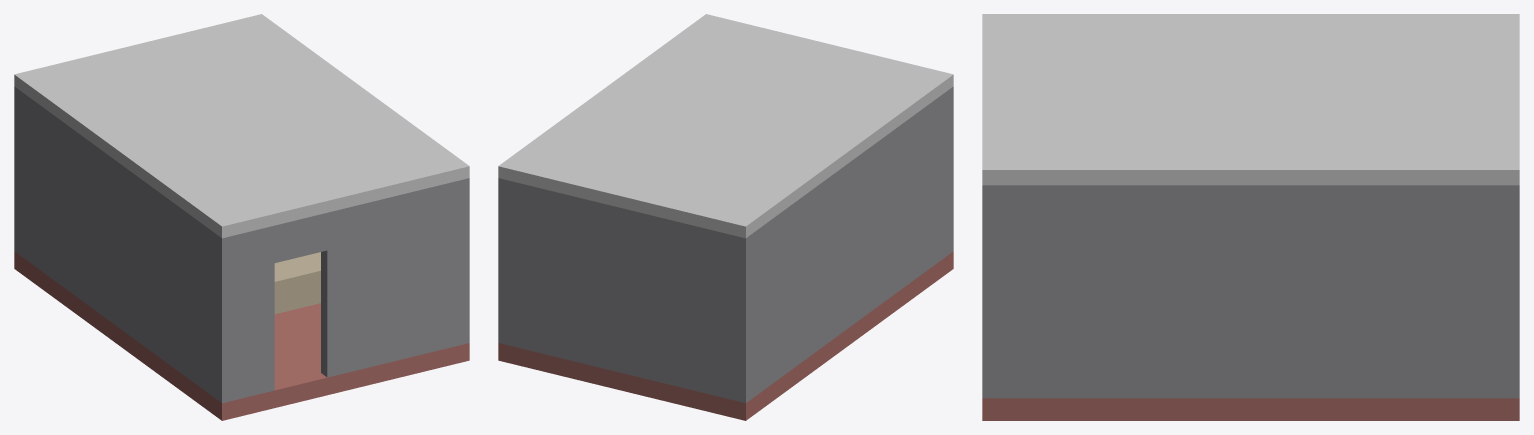
Rendered from motel_a.glb.
The picture shows the model from 3 angles, left to right: view 1: azimuth 30°, elevation 25°; view 2: azimuth 150°, elevation 25°; view 3: azimuth 270°, elevation 25°; orthographic projection. The views are drawn at different scales.
Visible parts, largest first — view 1: Room_Ceiling, Room_Wall_W_1, Room_Wall_S_3, Room_Floor, Room_Wall_S_1, Bed, Room_Wall_S_2, Room_Wall_N_1; view 2: Room_Ceiling, Room_Wall_N_1, Room_Wall_W_1, Room_Floor, Room_Wall_S_1; view 3: Room_Wall_E_1, Room_Ceiling, Room_Floor, Room_Wall_N_1, Room_Wall_S_3.
Boxes of the visible parts, <box> form: Room_Ceiling: <box>14,14,469,238</box>; Room_Wall_W_1: <box>20,91,215,398</box>; Room_Wall_S_3: <box>321,178,469,377</box>; Room_Floor: <box>14,251,469,420</box>; Room_Wall_S_1: <box>215,225,274,403</box>; Bed: <box>274,252,320,314</box>; Room_Wall_S_2: <box>274,213,327,262</box>; Room_Wall_N_1: <box>14,86,20,255</box>; Room_Ceiling: <box>498,14,953,238</box>; Room_Wall_N_1: <box>498,178,752,403</box>; Room_Wall_W_1: <box>752,91,947,398</box>; Room_Floor: <box>498,251,953,420</box>; Room_Wall_S_1: <box>947,86,953,255</box>; Room_Wall_E_1: <box>999,185,1502,398</box>; Room_Ceiling: <box>982,14,1519,185</box>; Room_Floor: <box>982,398,1519,420</box>; Room_Wall_N_1: <box>1502,185,1519,398</box>; Room_Wall_S_3: <box>982,185,999,398</box>.
Size of the model in its own units: 4.4 by 3.3 by 6.4.
